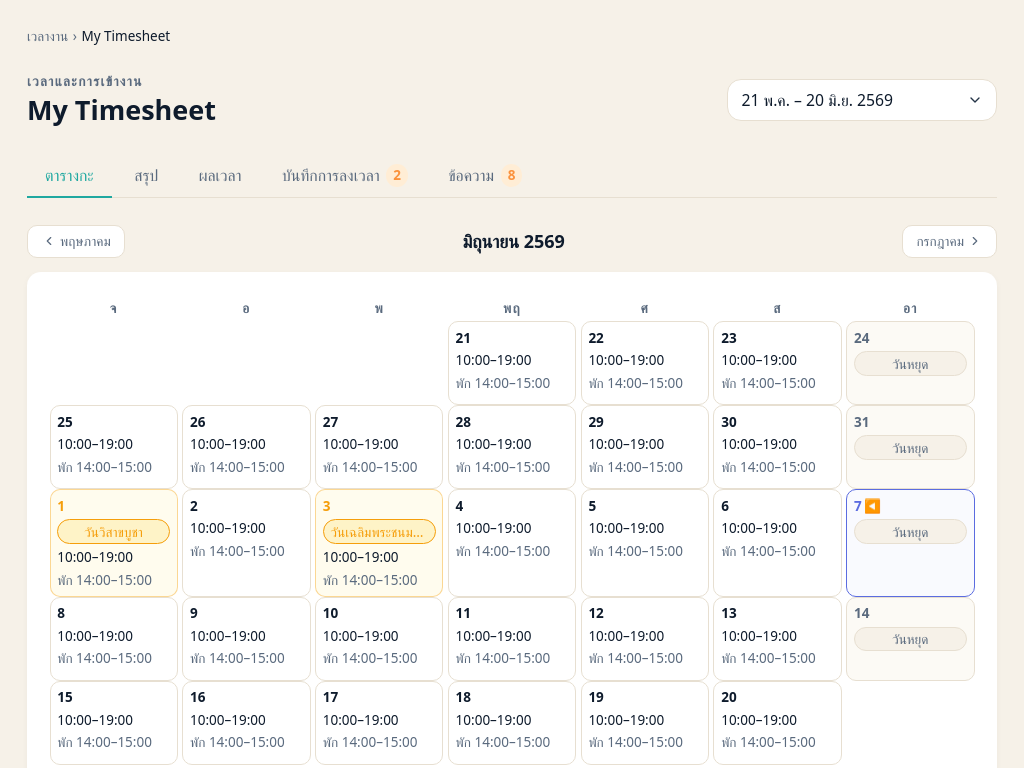
Test: STA-195 My Timesheet tabs › opens the Clock Log map modal
The image size is (1024, 768).
Click the tab "บันทึกการลงเวลา 2" at [345, 176], box left=264, top=155, right=426, bottom=198
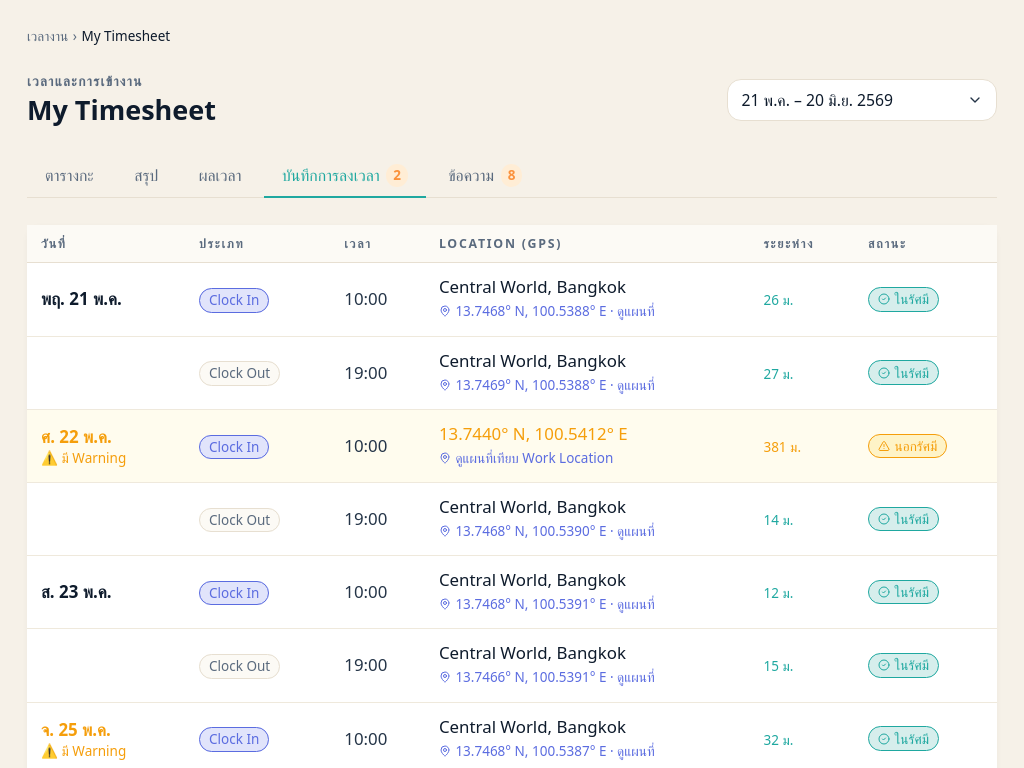
expect the button "13.7468° N, 100.5388° E · ดูแผนที่" is shown: met
Click the button "13.7468° N, 100.5388° E · ดูแผนที่" at [547, 312], box left=439, top=302, right=655, bottom=320
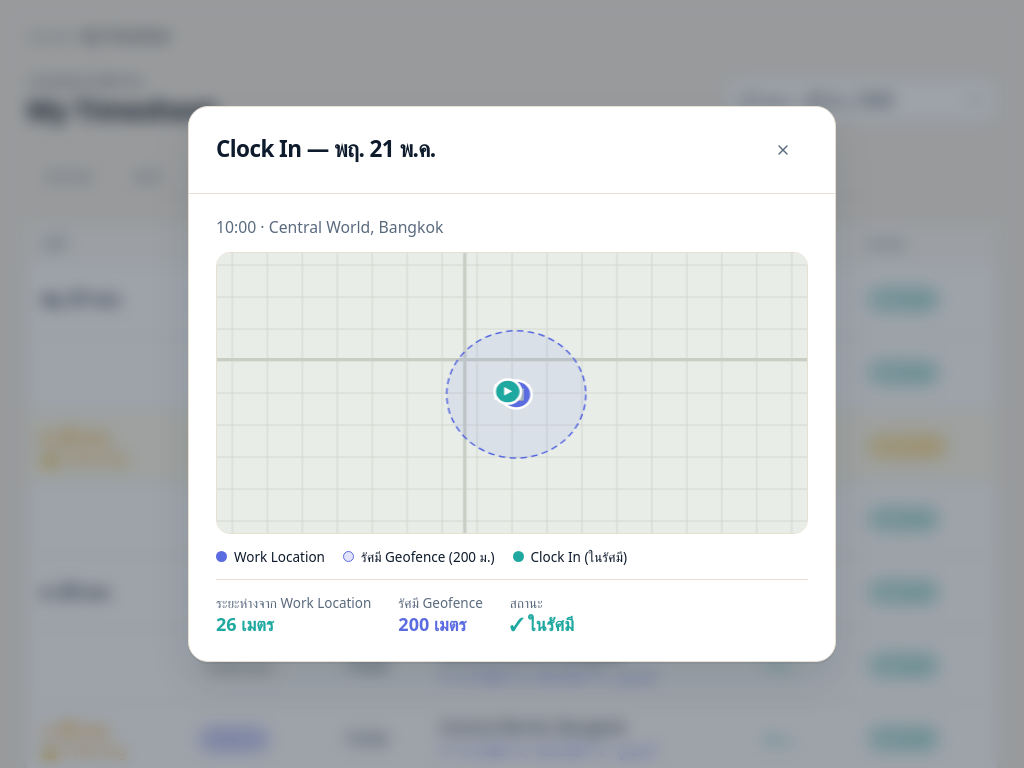
expect the dialog is shown: met
